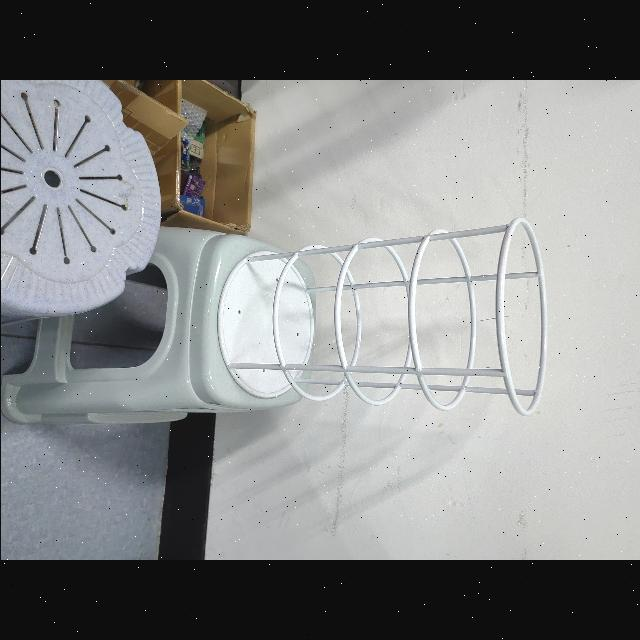S: (214, 214, 552, 416)
